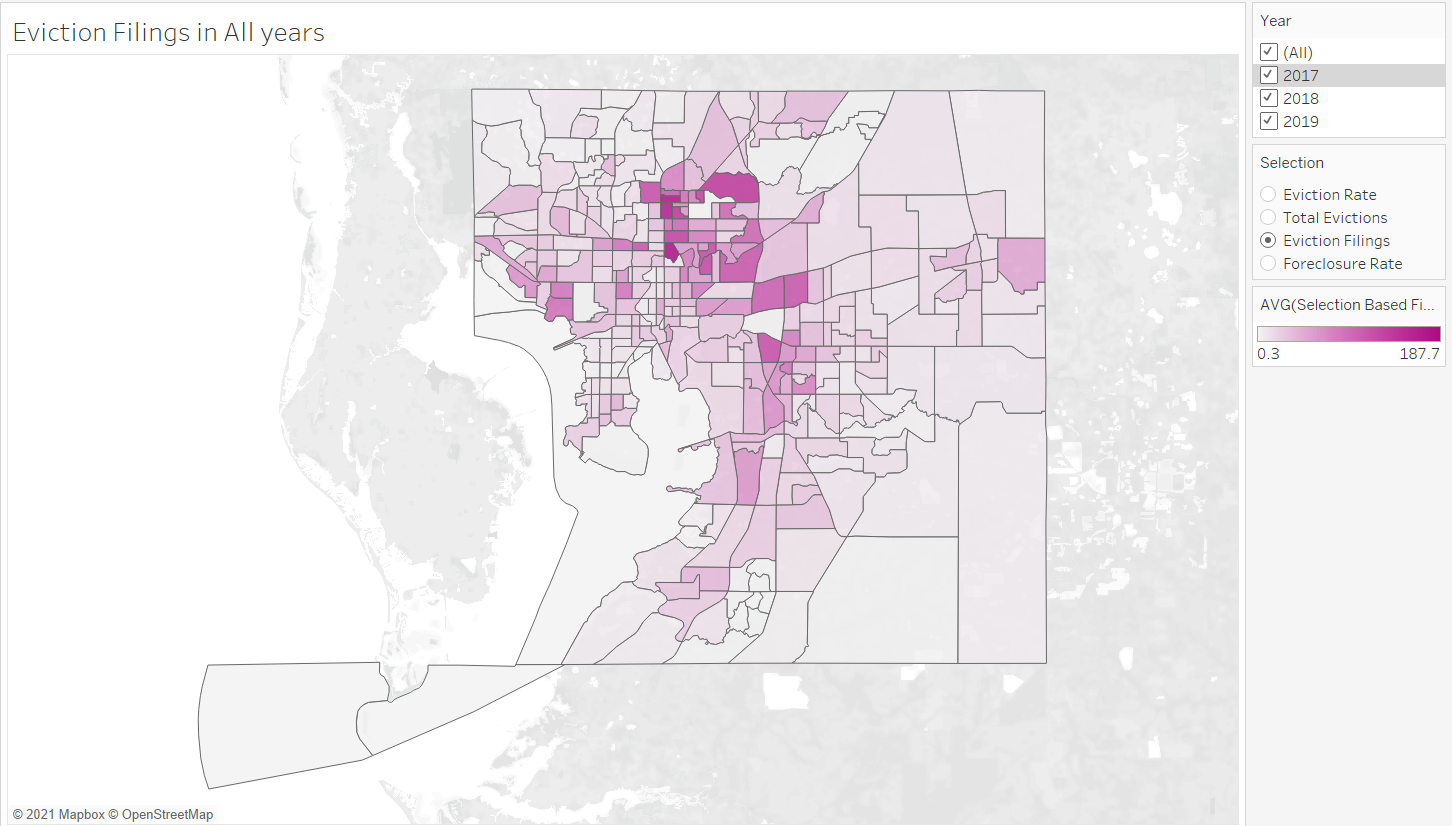

This screenshot's page, from the dashboard's own definition file:
{"tool":"tableau","page":{"name":"Dashboard 1","canvas":[1000,800],"ordinal":0},"visuals":[{"type":"worksheet","title":"Sheet 1","mark":"Automatic","box":[8,8,824,784]},{"type":"filter","title":"Sheet 1","param":"[federated.1u06c7t0c6f6l11f5u7dw1ax6dv7].[none:year:ok]","box":[832,8,160,128]},{"type":"legend","title":"Sheet 1","param":"[federated.1u06c7t0c6f6l11f5u7dw1ax6dv7].[avg:Calculation_1171498872285696004:qk","box":[832,136,160,51]},{"type":"parameter","param":"[Parameters].[Parameter 1]","box":[832,187,160,128]}]}

Visuals, with their boxes on the page's 1000x800 design canvas (x1, y1, x2, y2). These are canvas units, not pixel positions in the 1452x826 screenshot, which may show the page scaled, cropped or inside an application window:
"Sheet 1" worksheet: box=[8, 8, 832, 792]
"Sheet 1" filter: box=[832, 8, 992, 136]
"Sheet 1" legend: box=[832, 136, 992, 187]
parameter: box=[832, 187, 992, 315]
